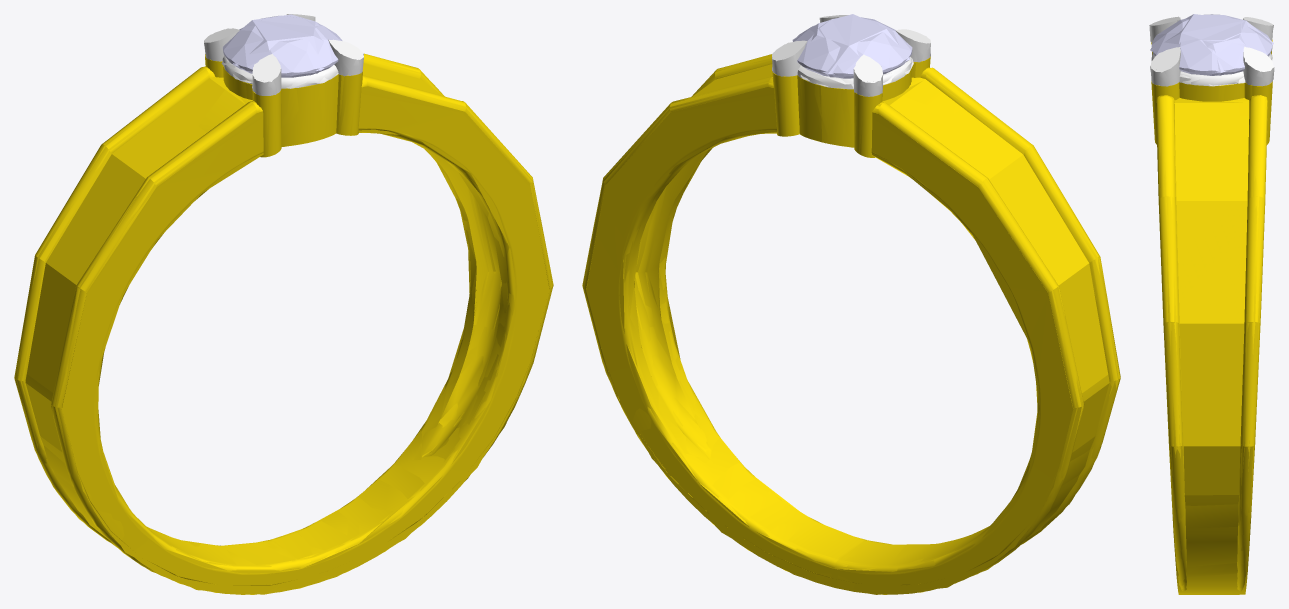
The model's file is DGR-D000700229.glb.
3 renders of one model, left to right at view 1: azimuth 30°, elevation 25°; view 2: azimuth 150°, elevation 25°; view 3: azimuth 270°, elevation 25°, orthographic.
Visible parts, largest first — view 1: highPolyMesh, lowPolyMesh; view 2: highPolyMesh, lowPolyMesh; view 3: highPolyMesh, lowPolyMesh.
Boxes of the visible parts, x1,y1,x2,y2 form: highPolyMesh: (14, 14, 553, 594); lowPolyMesh: (14, 14, 552, 594); highPolyMesh: (582, 15, 1120, 594); lowPolyMesh: (582, 14, 1120, 594); highPolyMesh: (1150, 14, 1273, 592); lowPolyMesh: (1149, 14, 1274, 594).
Size of the model in its own units: 0.024 by 0.0251 by 0.00526.
